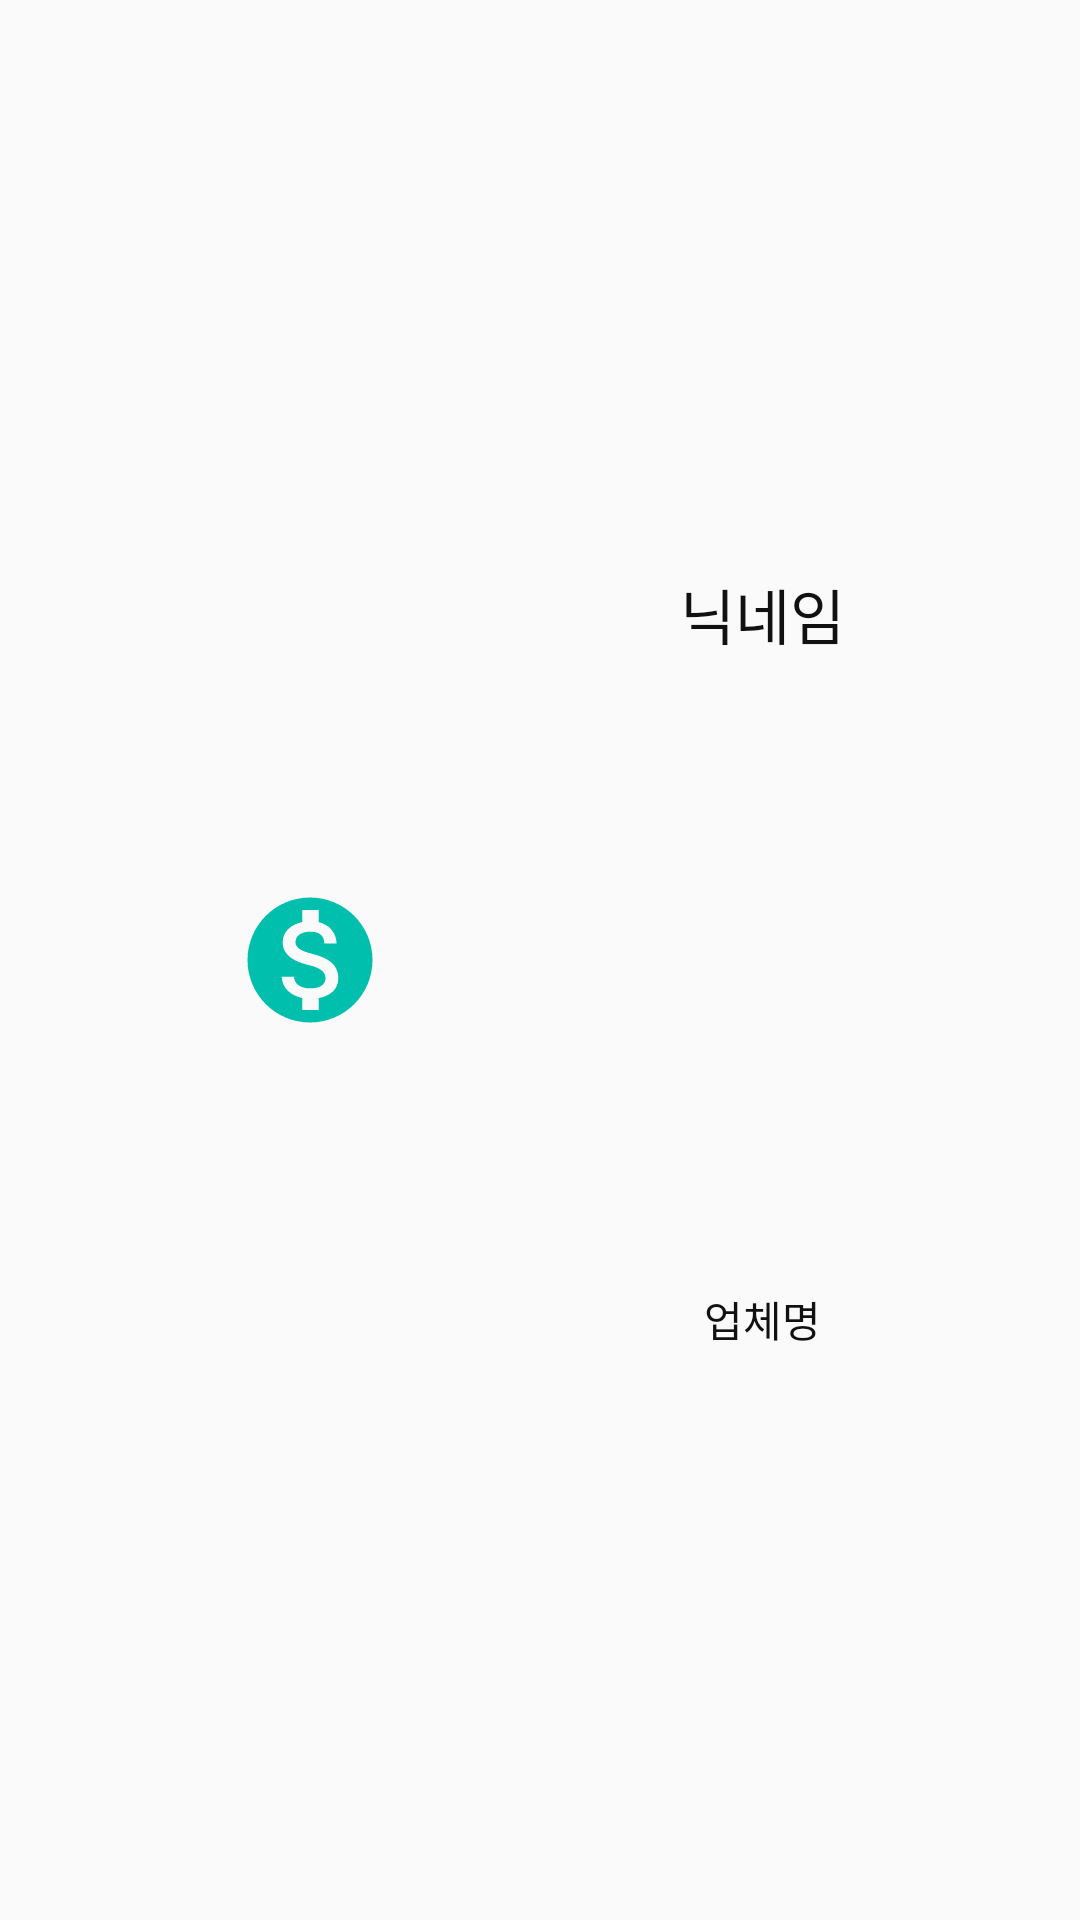

Named icons in this screenshot (1080 x 1920) and their bounding boxes, {"left": x1, "top": y1, "right": x2, "bottom": y2}:
myimage money: {"left": 247, "top": 897, "right": 373, "bottom": 1023}
